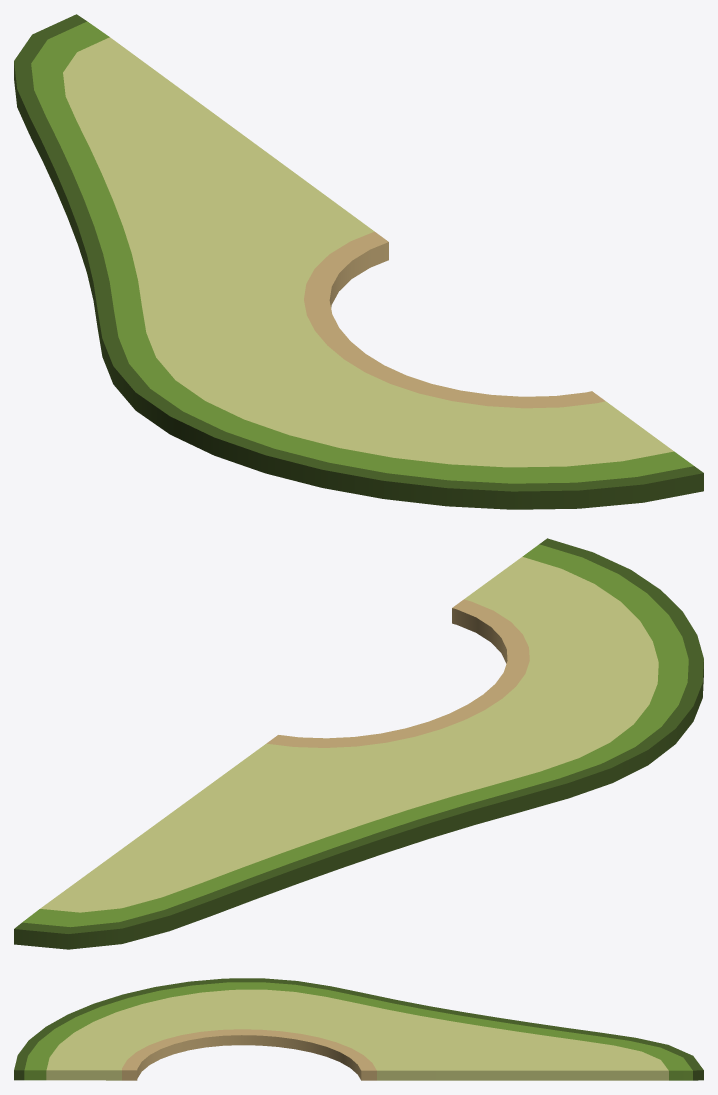
The model's file is Avocado Slice B.fbx.
3 views of the same model, one above another, from view 1: azimuth 30°, elevation 25°; view 2: azimuth 150°, elevation 25°; view 3: azimuth 270°, elevation 25° (orthographic). The views are drawn at different scales.
Visible parts, largest first — view 1: Avocado Slice B; view 2: Avocado Slice B; view 3: Avocado Slice B.
Part boxes in pixels (box(x1,y1,x2,y2)): Avocado Slice B: box(14, 14, 703, 509); Avocado Slice B: box(14, 538, 703, 949); Avocado Slice B: box(14, 978, 703, 1080).
Bounding box in the file's own units: 0.1936 × 0.00978 × 0.6099.
